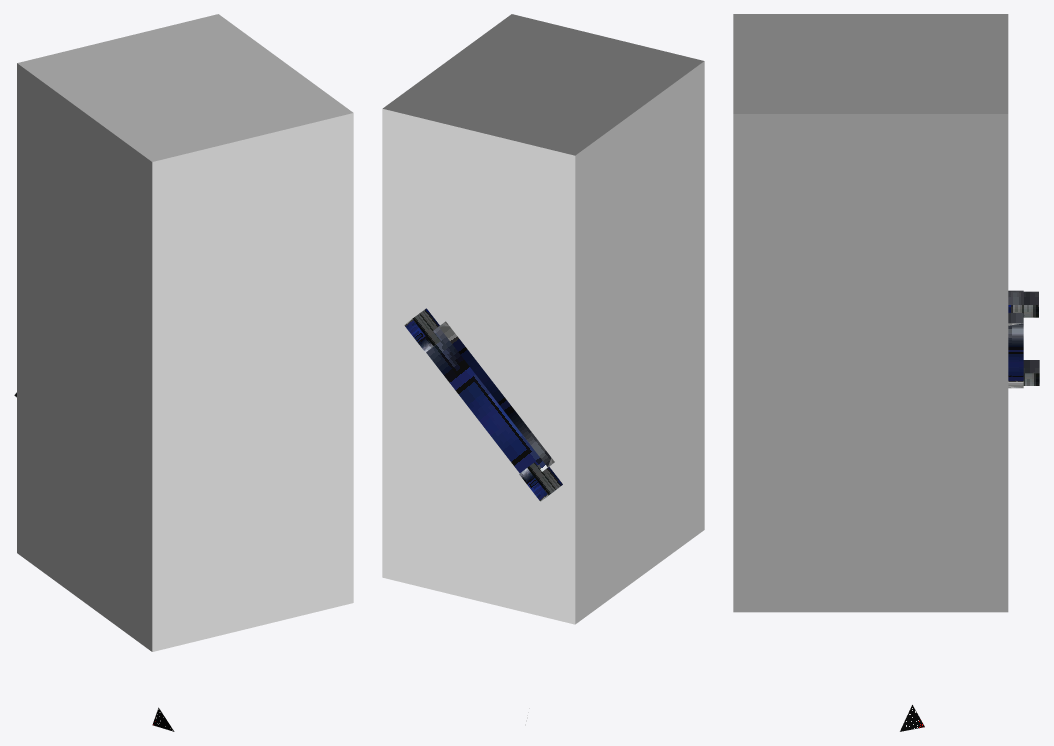
File: tech_01.glb
3 views of the same model, side by side, from view 1: azimuth 30°, elevation 25°; view 2: azimuth 150°, elevation 25°; view 3: azimuth 270°, elevation 25° (orthographic). The views are drawn at different scales.
Visible parts, largest first — view 1: pickups/tech_01_0; view 2: pickups/tech_01_0, pickups/tech_01_2; view 3: pickups/tech_01_0, pickups/tech_01_2.
Part boxes in pixels (box(x1,y1,x2,y2)): pickups/tech_01_0: box(17, 14, 353, 651); pickups/tech_01_0: box(382, 14, 704, 624); pickups/tech_01_2: box(404, 308, 562, 501); pickups/tech_01_0: box(733, 14, 1008, 612); pickups/tech_01_2: box(1008, 290, 1039, 388).
Bounding box in the file's own units: 0.6435 × 2 × 0.8331.
Materials: 3 (2 with a texture image).
